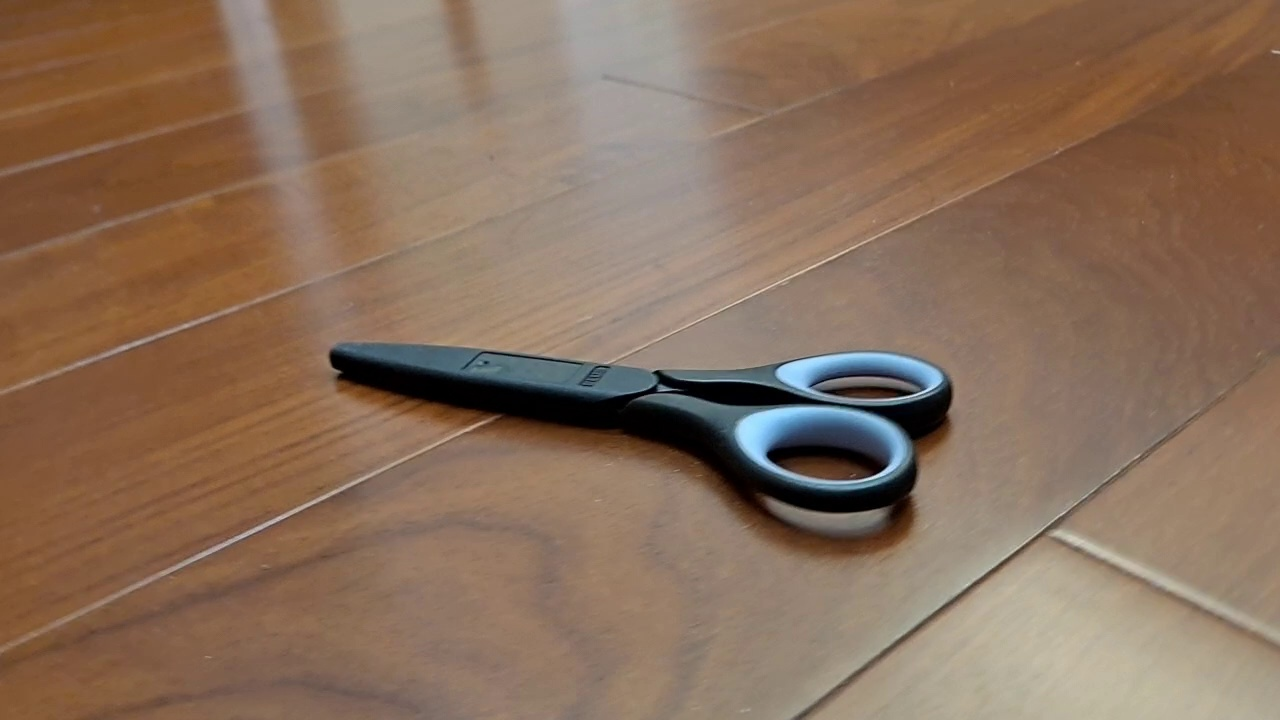scissors: (327, 340, 953, 515)
